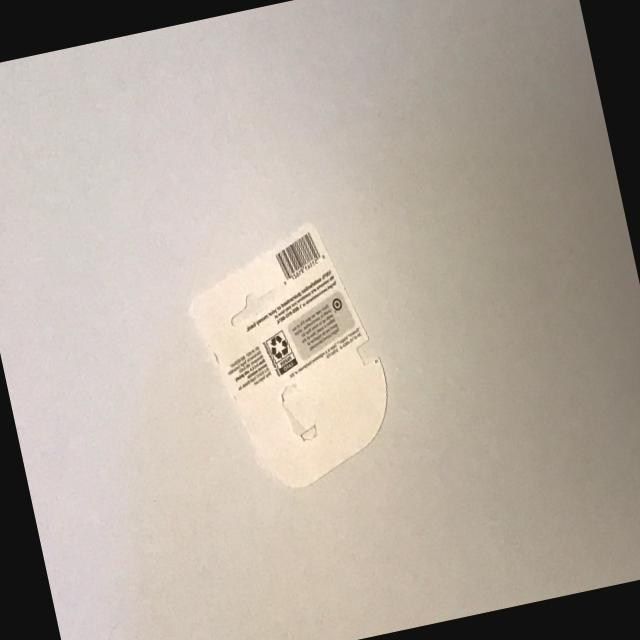Paper: (168, 202, 426, 518)
